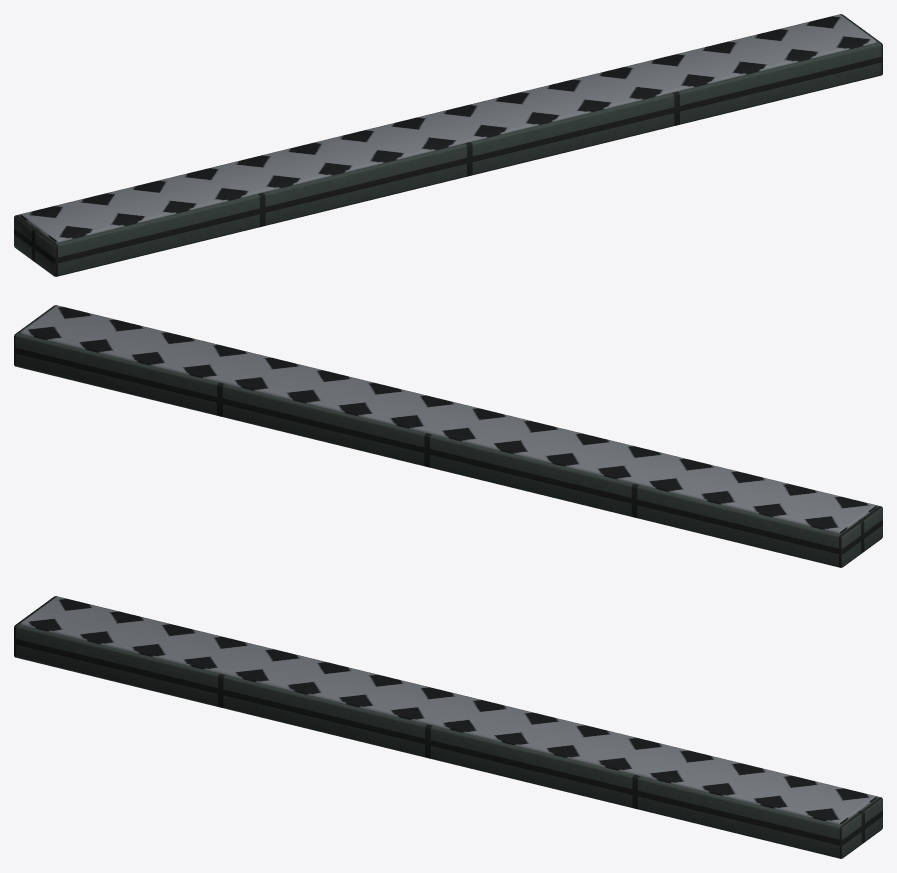
Rendered from WK_FLOOR_TRIM_A_01.glb.
3 views of the same model, one above another, from view 1: azimuth 30°, elevation 25°; view 2: azimuth 150°, elevation 25°; view 3: azimuth 330°, elevation 25° (orthographic).
Parts seen in each view (by area): view 1: WK_FLOOR_TRIM_A_01; view 2: WK_FLOOR_TRIM_A_01; view 3: WK_FLOOR_TRIM_A_01.
Part boxes in pixels (x1=…): WK_FLOOR_TRIM_A_01: x1=14, y1=14, x2=882, y2=276; WK_FLOOR_TRIM_A_01: x1=14, y1=305, x2=882, y2=567; WK_FLOOR_TRIM_A_01: x1=14, y1=596, x2=882, y2=858.
Size of the model in its own units: 4 by 0.16 by 0.35.
Materials: 2 (2 with a texture image).
